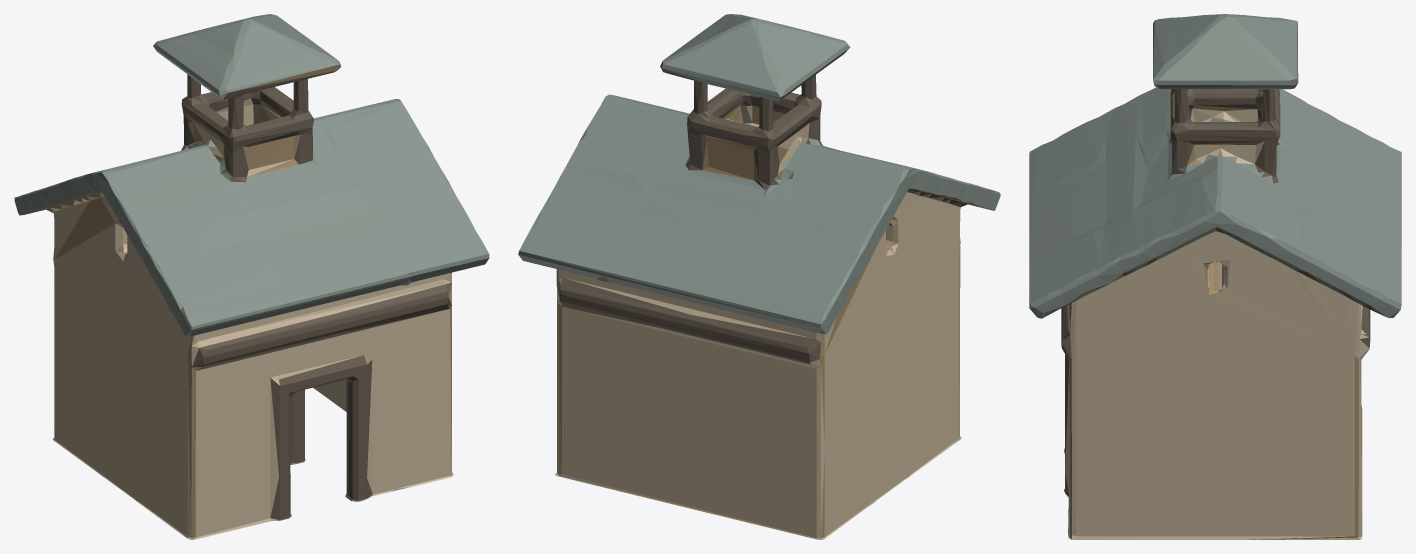
The picture shows the model from 3 angles, left to right: view 1: azimuth 30°, elevation 25°; view 2: azimuth 150°, elevation 25°; view 3: azimuth 270°, elevation 25°; orthographic projection. The views are drawn at different scales.
Parts seen in each view (by area): view 1: geometry_0; view 2: geometry_0; view 3: geometry_0.
Part boxes in pixels (x1,y1,x2,y2): geometry_0: [14, 14, 489, 539]; geometry_0: [518, 14, 1000, 539]; geometry_0: [1029, 14, 1401, 539].
Size of the model in its own units: 0.6802 by 0.9384 by 0.6947.
